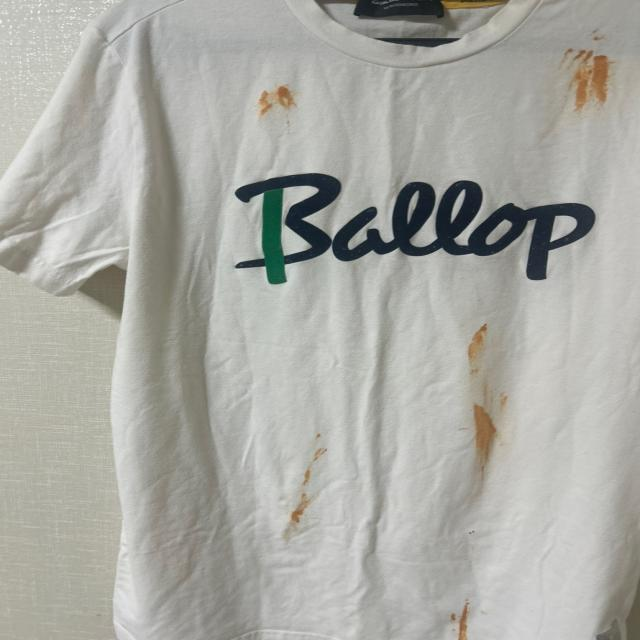stain: (286, 438, 337, 526), (559, 43, 619, 109), (477, 378, 510, 471), (250, 79, 301, 120), (465, 327, 496, 374), (450, 600, 475, 640), (589, 30, 611, 54), (466, 521, 481, 541)
